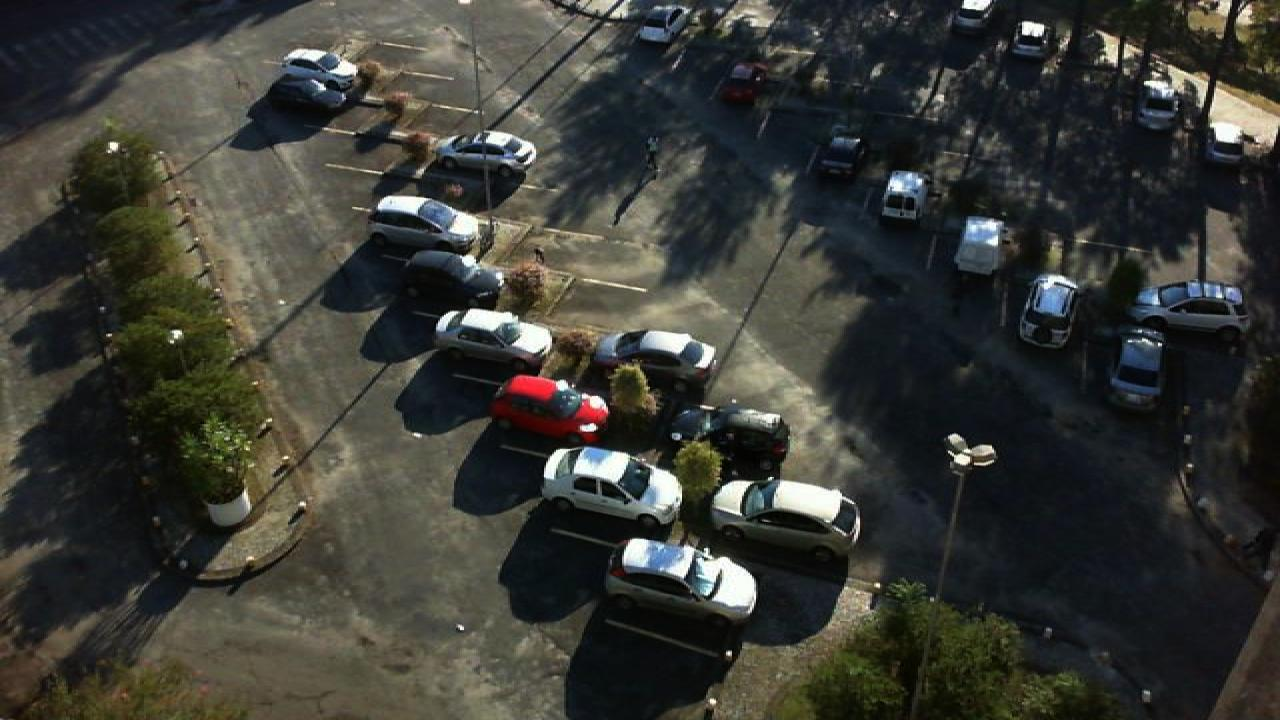Car: (602, 536, 760, 628), (708, 476, 864, 562), (538, 444, 688, 526), (486, 372, 610, 444), (662, 404, 792, 472), (1124, 277, 1254, 342), (586, 328, 720, 390), (364, 192, 490, 256), (432, 307, 556, 370), (1106, 327, 1170, 415), (402, 250, 504, 305), (1018, 274, 1080, 352), (430, 128, 538, 172), (264, 70, 352, 114), (952, 212, 1010, 276), (276, 47, 364, 87), (876, 168, 932, 230), (712, 60, 772, 108), (1134, 78, 1186, 132), (810, 134, 868, 181), (632, 3, 688, 50), (1202, 120, 1252, 166), (1004, 16, 1054, 60), (946, 0, 998, 35)
